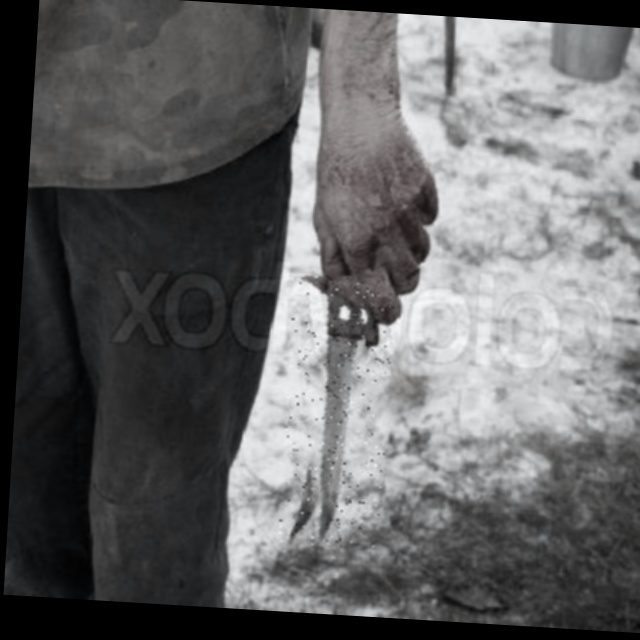Sharp-Object: (279, 273, 395, 549)
